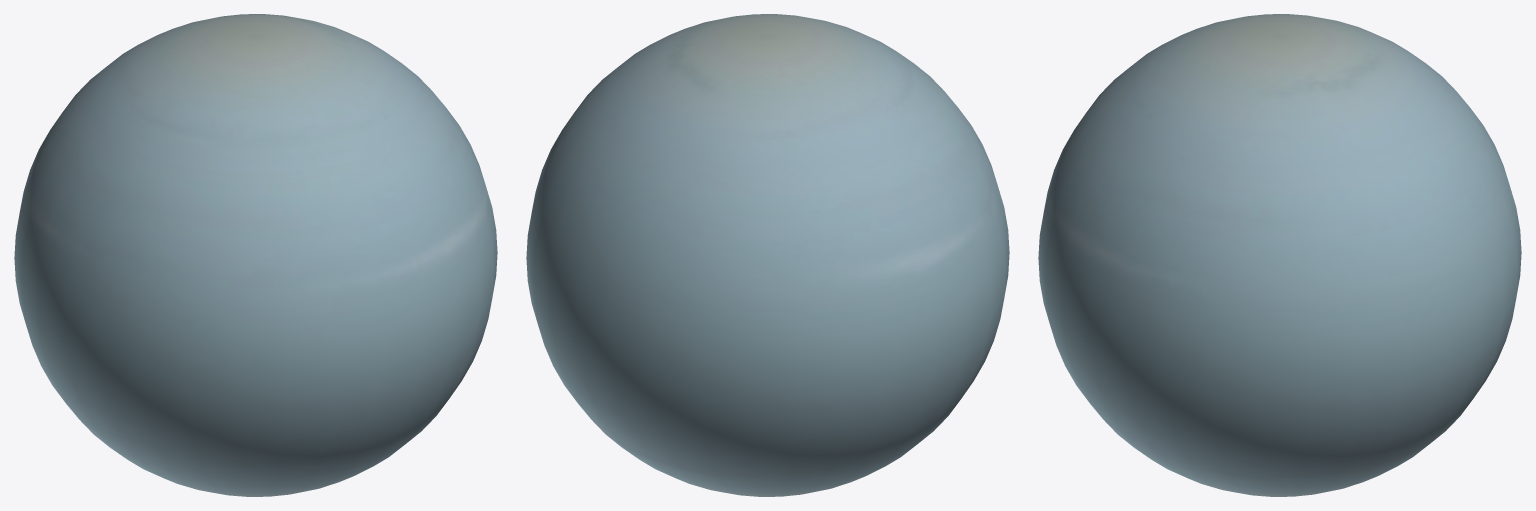
File: uranus.obj
3 views of the same model, side by side, from view 1: azimuth 30°, elevation 25°; view 2: azimuth 150°, elevation 25°; view 3: azimuth 270°, elevation 25° (orthographic).
Parts seen in each view (by area): view 1: pSphere1; view 2: pSphere1; view 3: pSphere1.
Boxes of the visible parts, left/top/right/bottom form: pSphere1: left=14, top=14, right=497, bottom=496; pSphere1: left=526, top=14, right=1009, bottom=496; pSphere1: left=1038, top=14, right=1521, bottom=496.
Bounding box in the file's own units: 1.99 × 2 × 2.
Materials: 1 (1 with a texture image).
